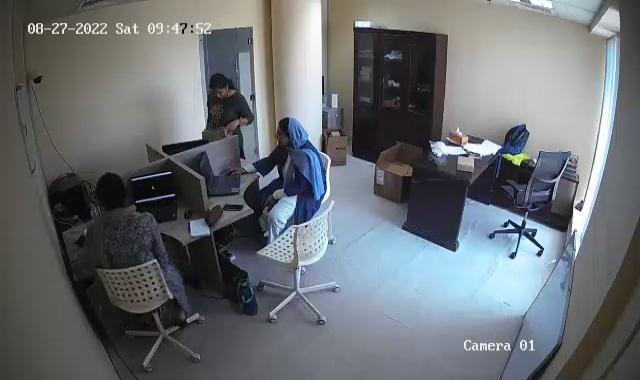no_hairnet: (272, 115, 316, 159), (90, 174, 132, 215), (210, 72, 234, 106)
